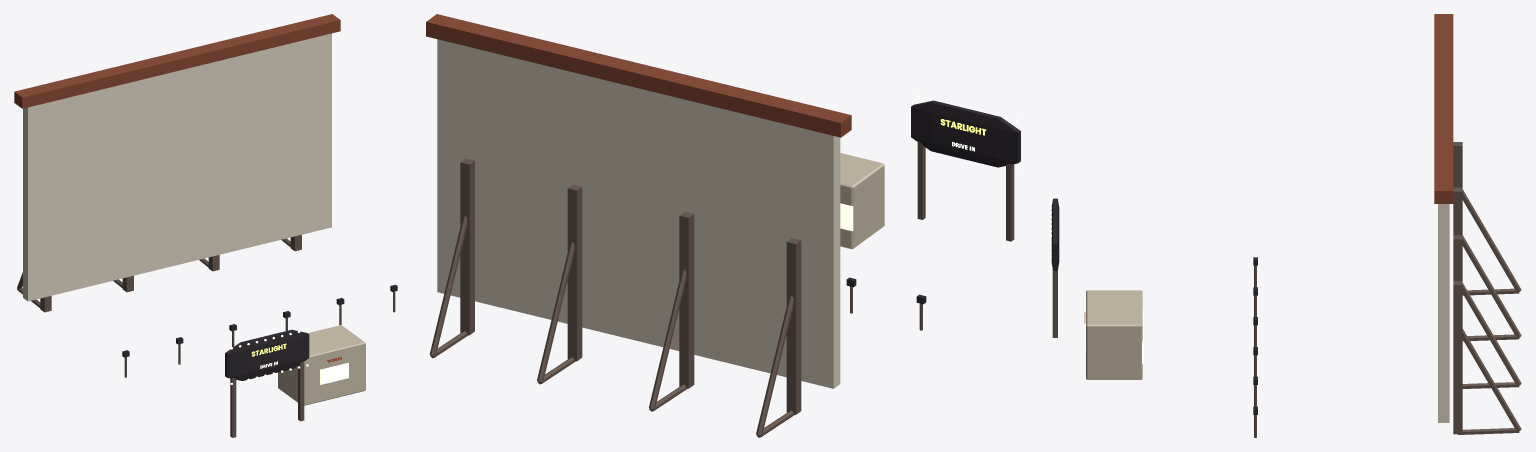
Rendered from drive_in.glb.
3 views of the same model, side by side, from view 1: azimuth 30°, elevation 25°; view 2: azimuth 150°, elevation 25°; view 3: azimuth 270°, elevation 25° (orthographic). The views are drawn at different scales.
Visible parts, largest first — view 1: drive_in; view 2: drive_in; view 3: drive_in.
Part boxes in pixels (bbox=[...]): drive_in: bbox=[14, 14, 397, 437]; drive_in: bbox=[426, 14, 1020, 437]; drive_in: bbox=[1049, 14, 1521, 437].
Bounding box in the file's own units: 17.8 × 12.32 × 20.07.
